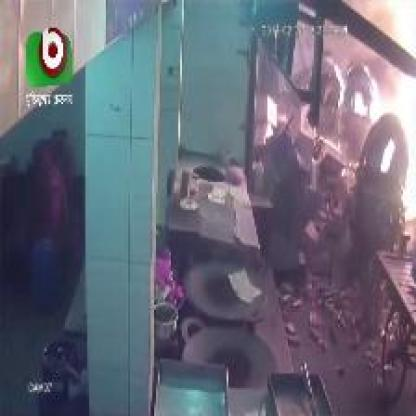fire: (358, 2, 416, 223)
